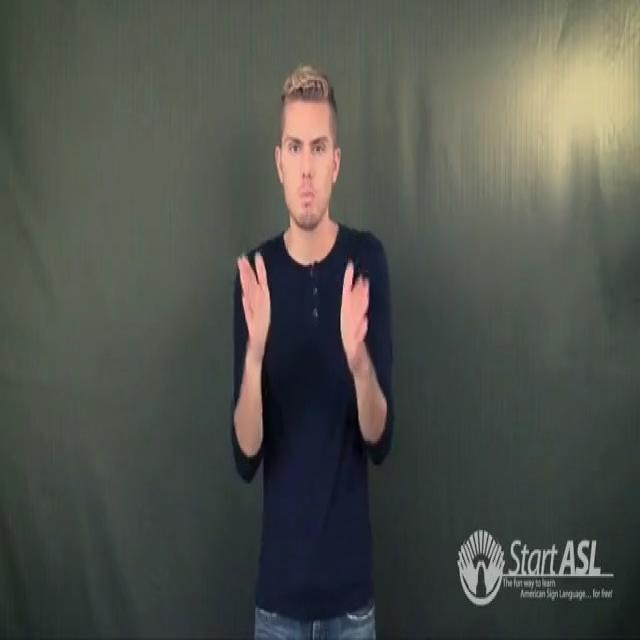small: (230, 244, 380, 402)
